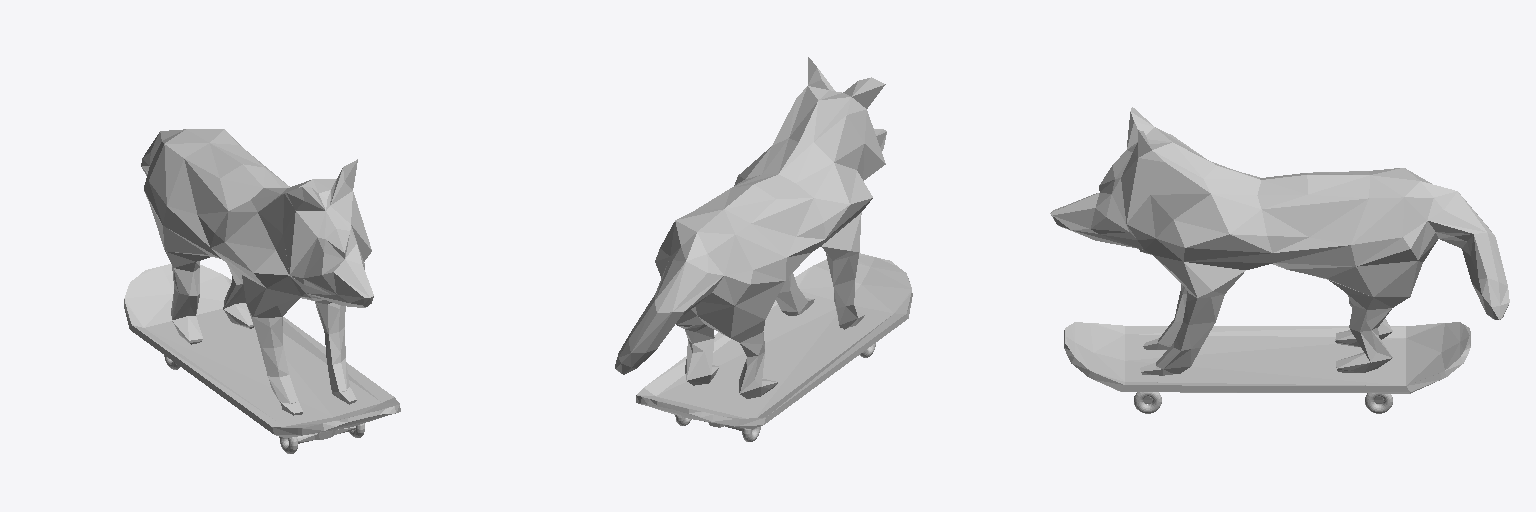
The model's file is Fuchs06.obj.
3 renders of one model, left to right at view 1: azimuth 30°, elevation 25°; view 2: azimuth 150°, elevation 25°; view 3: azimuth 270°, elevation 25°, orthographic.
Size of the model in its own units: 3.58 by 7.89 by 11.65.